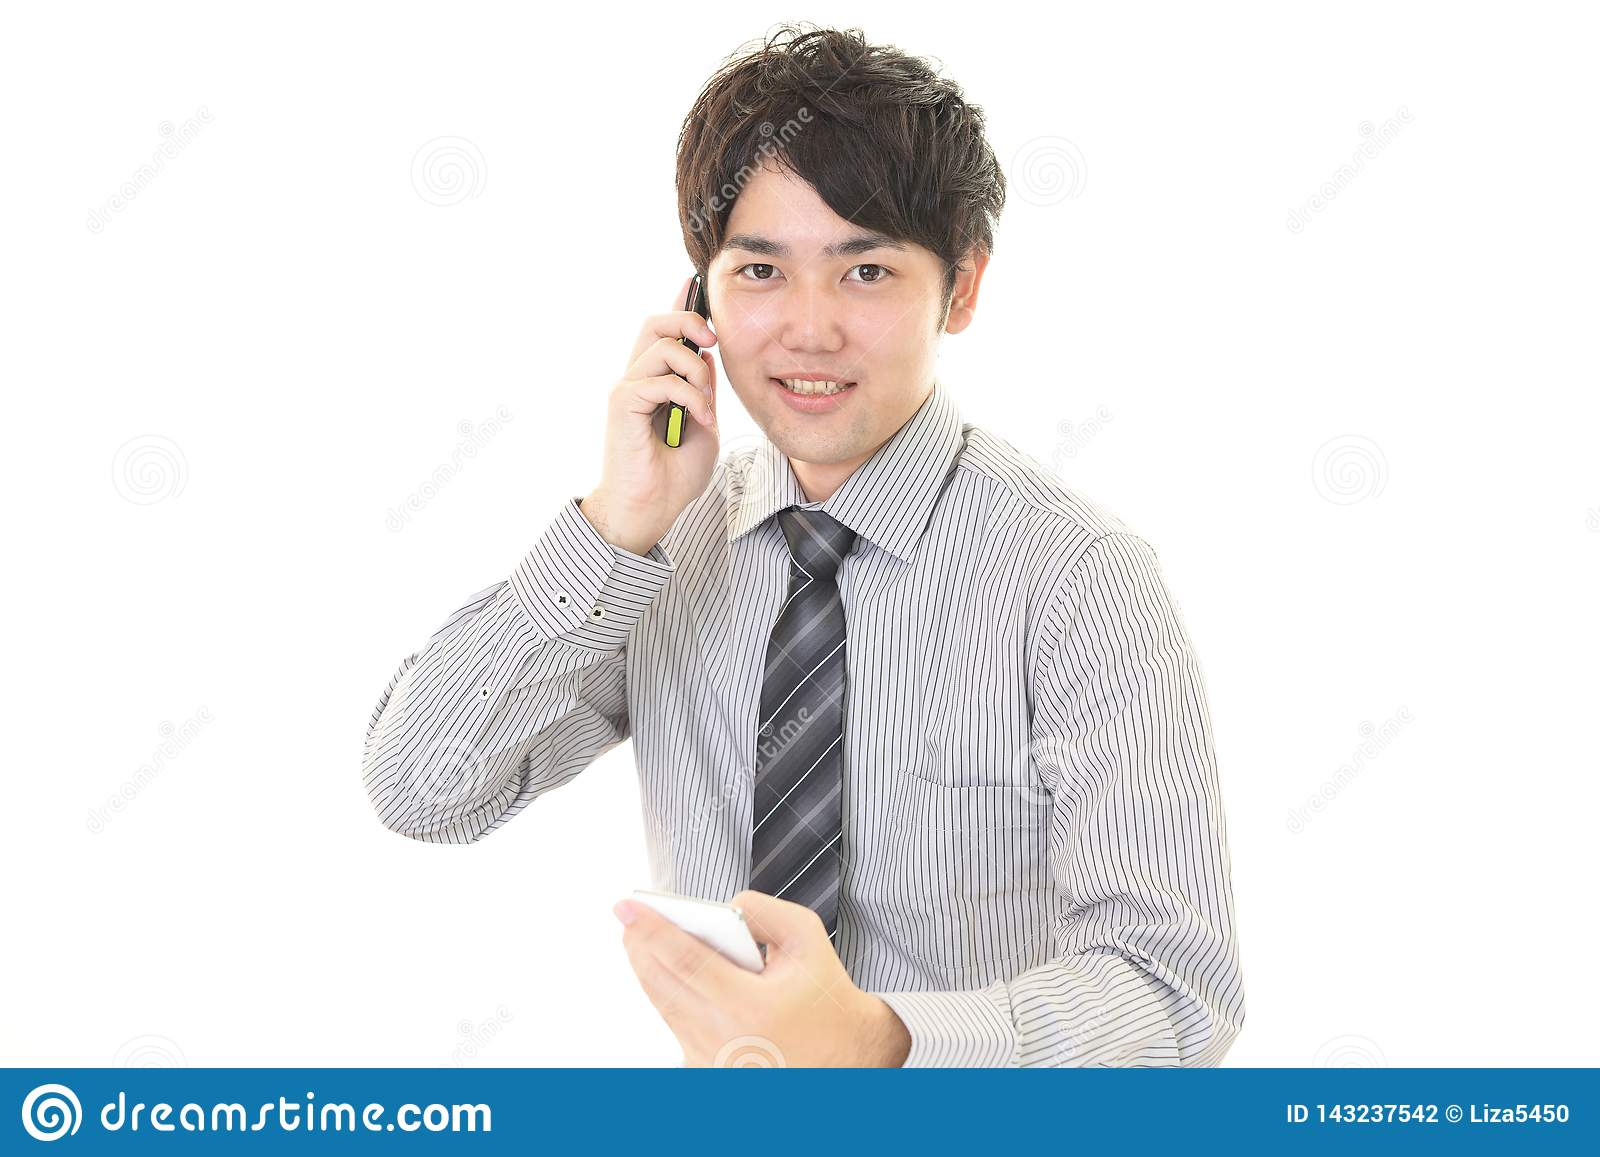phone: (665, 267, 707, 449)
talk: (602, 221, 929, 541)
